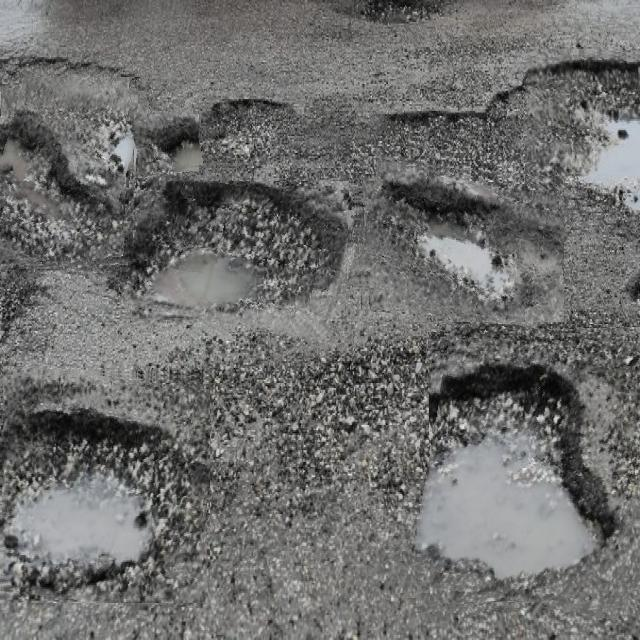Pothole: (417, 324, 640, 612), (0, 370, 210, 603), (128, 181, 349, 335), (354, 162, 564, 322), (0, 77, 139, 271), (525, 49, 640, 176), (134, 112, 201, 174)
